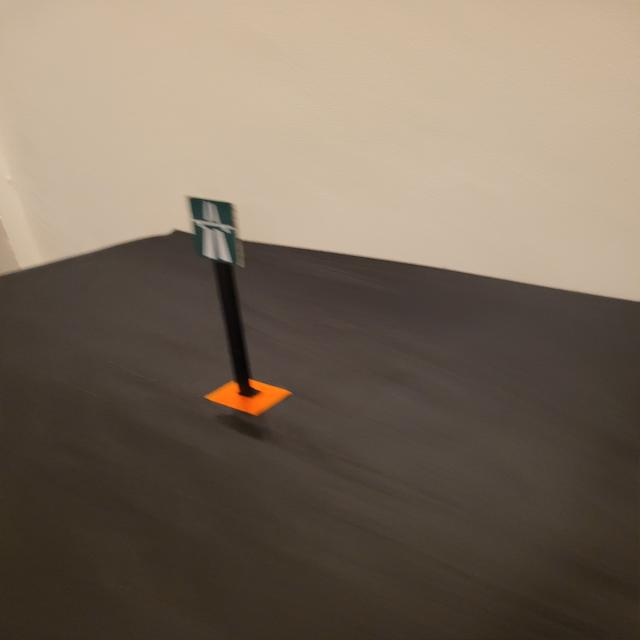highway_entrance: (188, 196, 245, 269)
